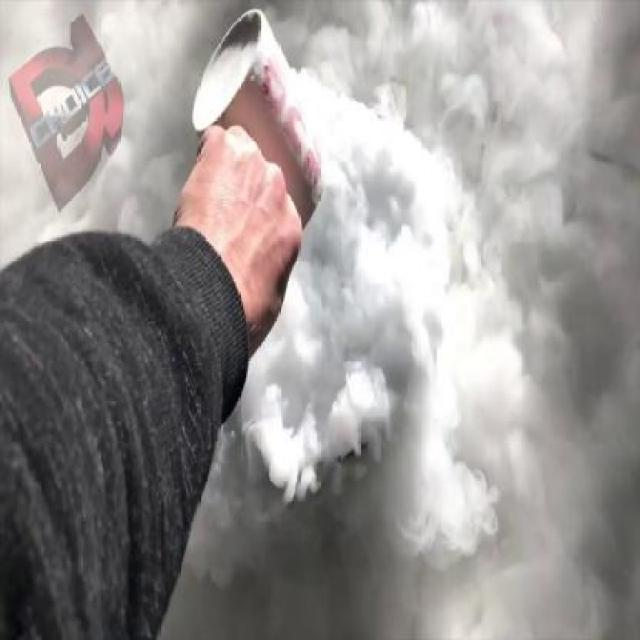smoke: (254, 71, 534, 527)
